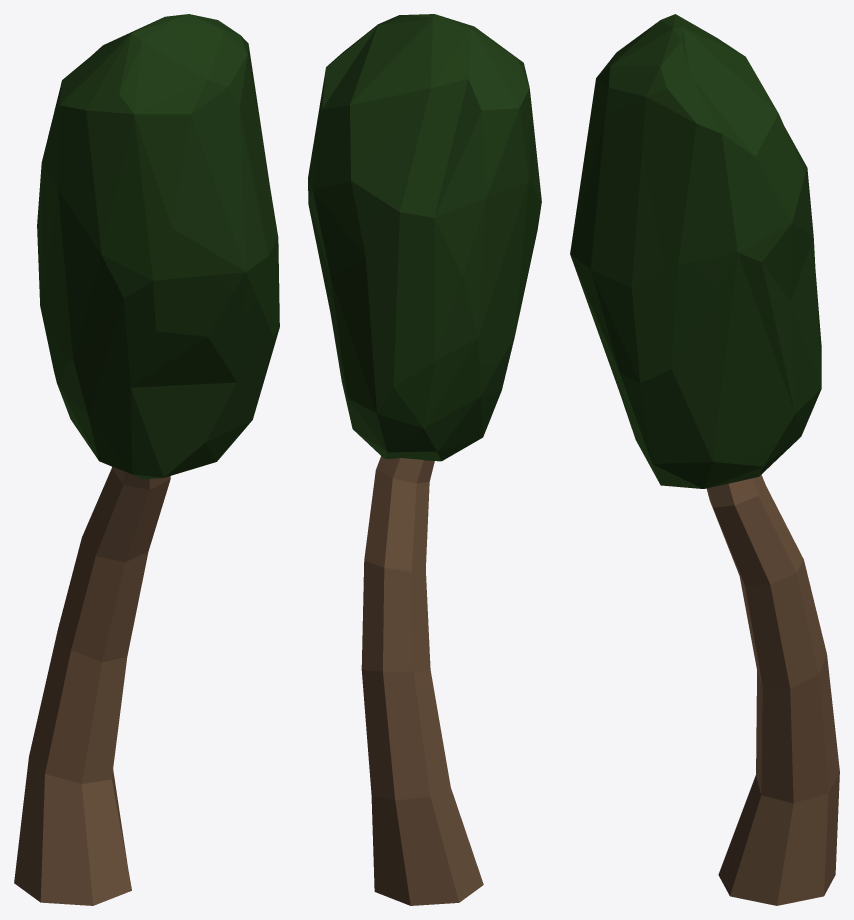
Rendered from Tree4.glb.
The picture shows the model from 3 angles, left to right: view 1: azimuth 30°, elevation 25°; view 2: azimuth 150°, elevation 25°; view 3: azimuth 270°, elevation 25°; orthographic projection. The views are drawn at different scales.
Parts seen in each view (by area): view 1: Tree_1; view 2: Tree_1; view 3: Tree_1.
Part boxes in pixels (<box>): Tree_1: <box>14,14,279,905</box>; Tree_1: <box>308,14,541,905</box>; Tree_1: <box>570,14,839,905</box>.
Size of the model in its own units: 0.8068 by 3.23 by 0.905.
1 material, 1 textured.
